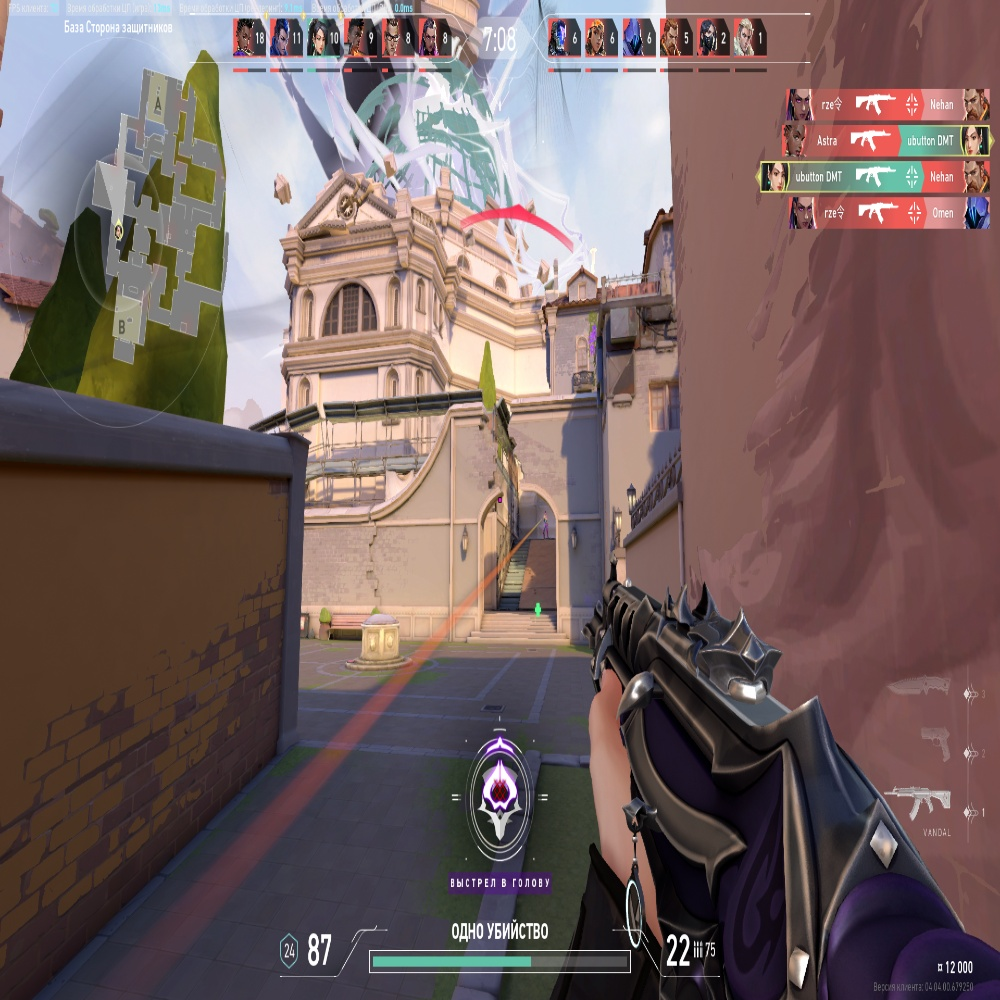body: (543, 518, 548, 528)
head: (544, 511, 547, 517)
